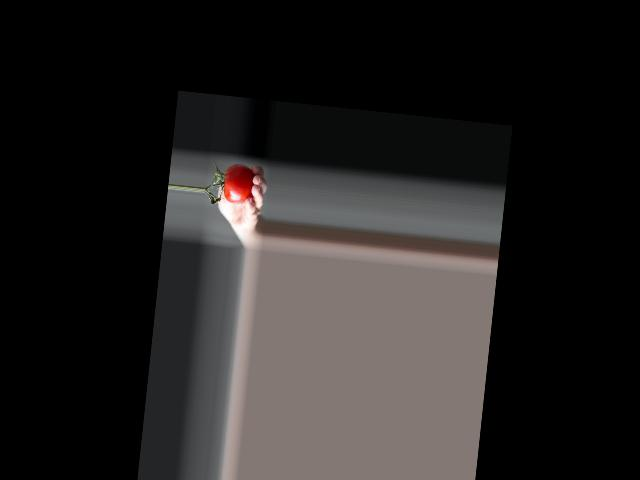tomato: (221, 162, 256, 205)
